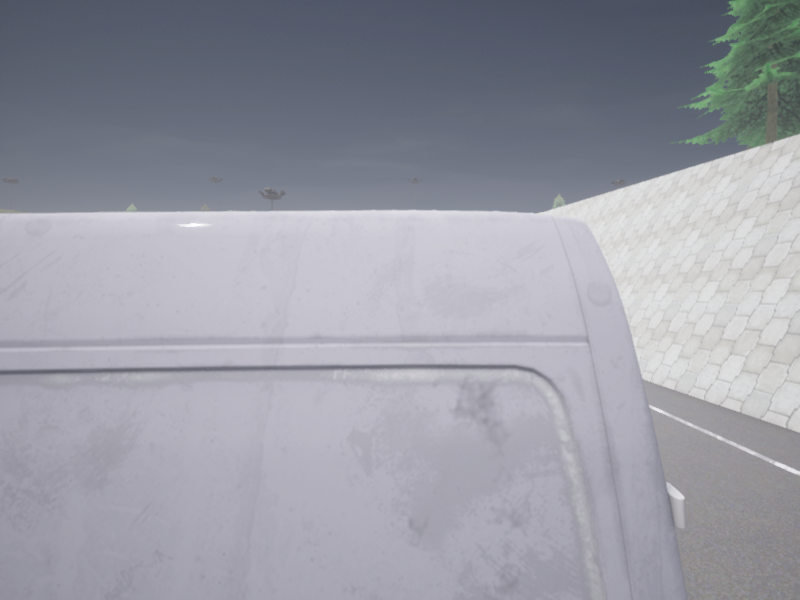vehicle: (0, 210, 687, 599)
